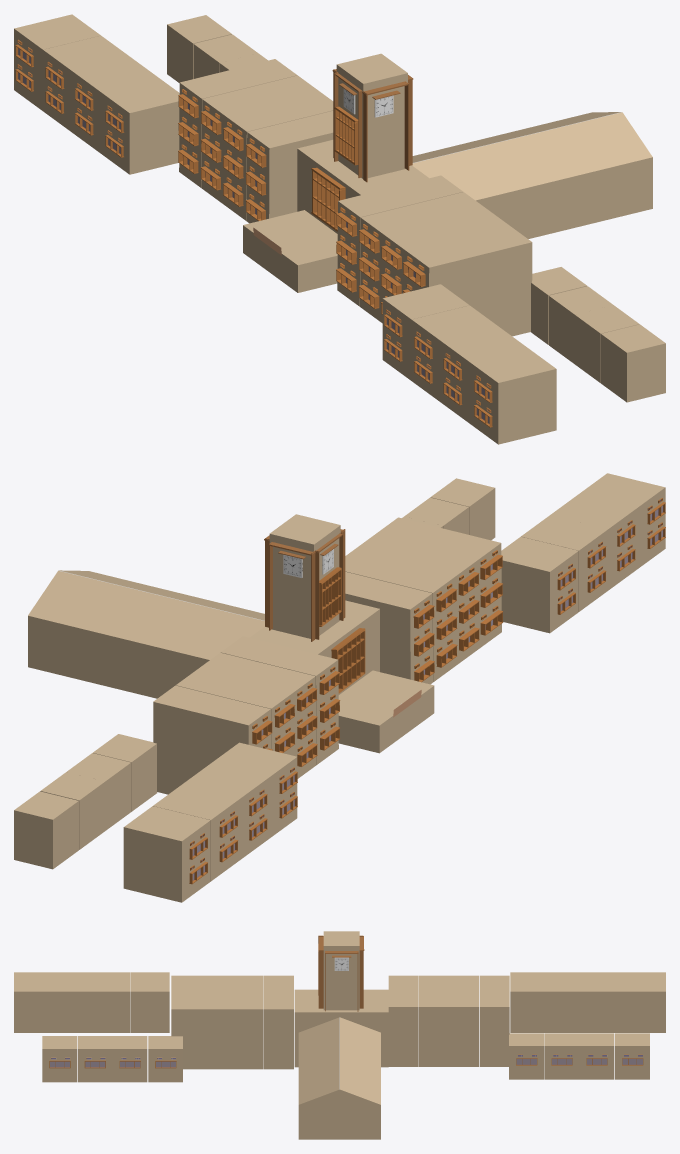
The model's file is admin.glb.
The picture shows the model from 3 angles, top to bottom: view 1: azimuth 30°, elevation 25°; view 2: azimuth 150°, elevation 25°; view 3: azimuth 270°, elevation 25°; orthographic projection. The views are drawn at different scales.
Visible parts, largest first — view 1: Cube, Plane.006, Cube.004, Cube.016, Plane.002, Cube.255, Cube.231, Plane.009, Plane.008, Plane.005, Cube.027, Plane.001 (+17 smaller); view 2: Cube, Plane.005, Cube.013, Cube.001, Plane.009, Cube.255, Cube.231, Plane.006, Plane.008, Plane.007, Plane.002, Cube.028 (+17 smaller); view 3: Cube, Cube.227, Plane.008, Plane.002, Plane.009, Plane.006, Plane.007, Plane.005, Plane.001, Plane.004, Cube.231, Cube.002 (+16 smaller).
Part boxes in pixels (box(x1,y1,x2,y2)): Cube: box(412, 112, 652, 238); Plane.006: box(402, 224, 532, 336); Cube.004: box(469, 348, 556, 444); Cube.016: box(101, 78, 179, 174); Plane.002: box(245, 111, 333, 223); Cube.255: box(243, 210, 337, 292); Cube.231: box(336, 53, 407, 178); Plane.009: box(336, 175, 462, 306); Plane.008: box(358, 192, 485, 322); Plane.005: box(178, 59, 297, 187); Cube.027: box(601, 324, 665, 402); Plane.001: box(223, 92, 333, 220); Cube: box(28, 570, 264, 698); Plane.005: box(153, 685, 272, 794); Cube.013: box(123, 806, 210, 902); Cube.001: box(501, 536, 578, 633); Plane.009: box(345, 572, 434, 684); Cube.255: box(338, 670, 434, 753); Cube.231: box(269, 514, 340, 638); Plane.006: box(373, 517, 503, 649); Plane.008: box(345, 551, 457, 682); Plane.007: box(352, 535, 479, 665); Plane.002: box(221, 636, 340, 764); Cube.028: box(14, 791, 78, 869); Cube: box(298, 1017, 380, 1139); Cube.227: box(294, 989, 388, 1067); Plane.008: box(233, 975, 263, 1069); Plane.002: box(388, 975, 418, 1066); Plane.009: box(264, 975, 293, 1069); Plane.006: box(171, 975, 204, 1069); Plane.007: box(203, 975, 233, 1069); Plane.005: box(479, 975, 509, 1066); Plane.001: box(419, 975, 448, 1066); Plane.004: box(449, 975, 478, 1066); Cube.231: box(323, 931, 359, 1010); Cube.002: box(91, 972, 130, 1032).
Bounding box in the file's own units: 119 × 55.24 × 270.
12 materials, 3 textured.
